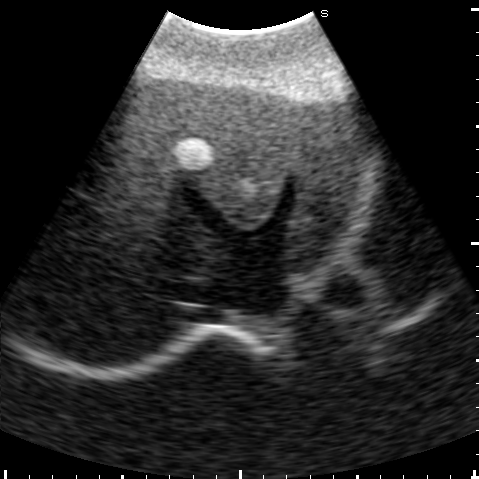S2: (288, 120, 368, 271)
S4: (121, 75, 303, 226)
S7: (32, 244, 183, 367)
S8: (82, 116, 222, 282)
Tumor: (173, 138, 213, 169)
